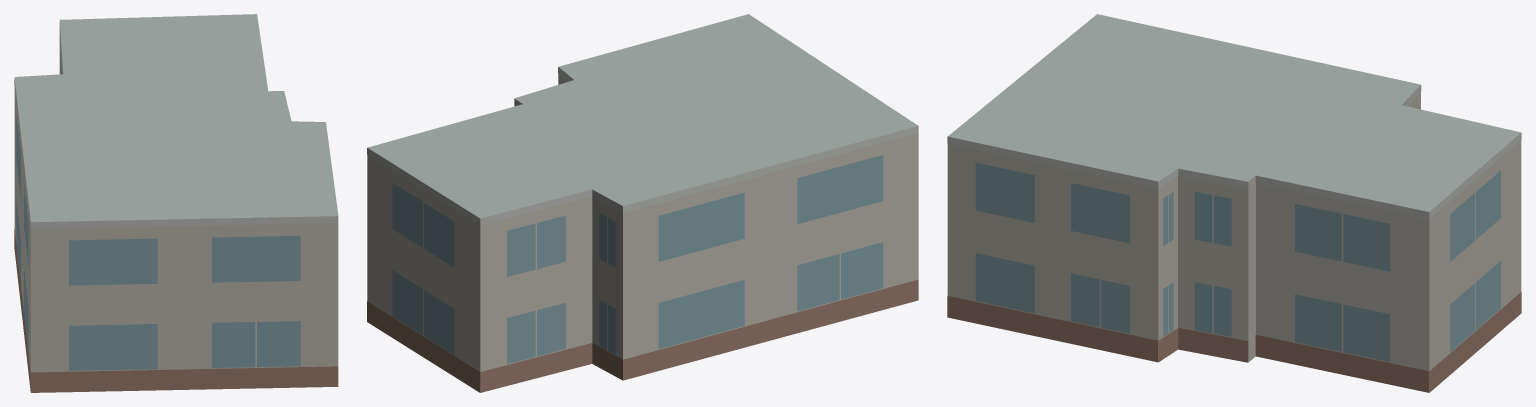
Rendered from survey-upis-32954394.glb.
3 views of the same model, side by side, from view 1: azimuth 30°, elevation 25°; view 2: azimuth 150°, elevation 25°; view 3: azimuth 270°, elevation 25° (orthographic). The views are drawn at different scales.
Visible parts, largest first — view 1: survey-upis-32954394.tmp; view 2: survey-upis-32954394.tmp; view 3: survey-upis-32954394.tmp.
Boxes of the visible parts, x1,y1,x2,y2 form: survey-upis-32954394.tmp: [14, 14, 338, 392]; survey-upis-32954394.tmp: [367, 14, 918, 392]; survey-upis-32954394.tmp: [947, 14, 1521, 392].
Bounding box in the file's own units: 14.33 × 6.1 × 17.55.
